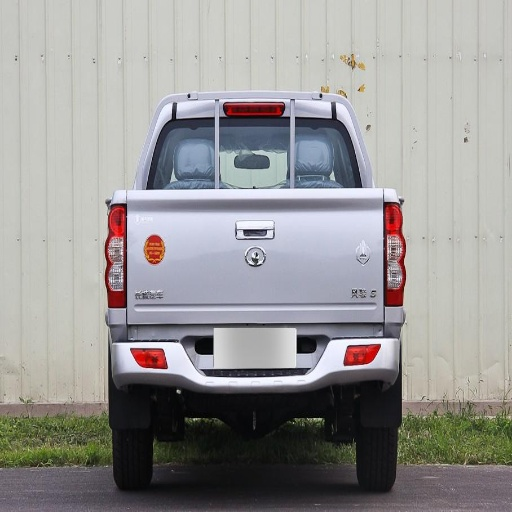back_bumper: (108, 322, 403, 396)
trunk: (111, 184, 385, 335)
